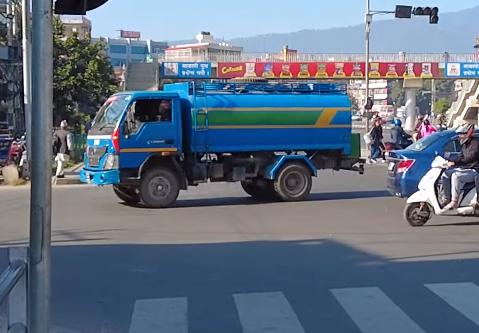car: (390, 123, 449, 190)
mini_truck: (80, 71, 370, 218)
scooter: (399, 155, 479, 230)
